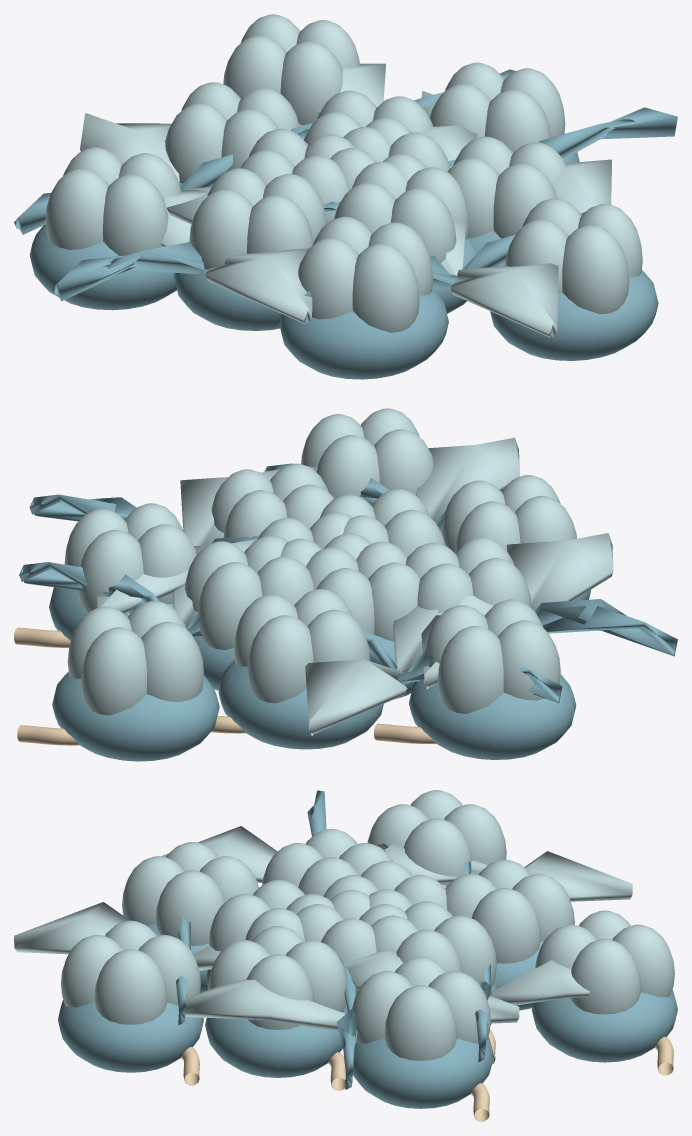
File: bio_oxygen_reef_15_near.glb
The picture shows the model from 3 angles, top to bottom: view 1: azimuth 30°, elevation 25°; view 2: azimuth 150°, elevation 25°; view 3: azimuth 270°, elevation 25°; orthographic projection. The views are drawn at different scales.
Visible parts, largest first — view 1: Lobed gas sac.028, Lobed gas sac.036, Lobed gas sac.040, Lobed gas sac.016, Lobed gas sac.044, Photosynthetic cushion.007, Lobed gas sac.032, Lobed gas sac.020, Lobed gas sac.024, Lobed gas sac.008, Photosynthetic cushion.010, Low buttress leaf.009 (+14 smaller); view 2: Lobed gas sac.044, Lobed gas sac.036, Lobed gas sac.024, Photosynthetic cushion.011, Lobed gas sac.032, Lobed gas sac.040, Lobed gas sac.012, Photosynthetic cushion.009, Lobed gas sac.028, Low buttress leaf.005, Lobed gas sac.004, Lobed gas sac.016 (+18 smaller); view 3: Lobed gas sac.040, Lobed gas sac.032, Lobed gas sac.044, Lobed gas sac.028, Lobed gas sac.024, Lobed gas sac.036, Lobed gas sac.020, Photosynthetic cushion.011, Photosynthetic cushion.008, Photosynthetic cushion.010, Lobed gas sac.012, Photosynthetic cushion.005 (+18 smaller).
Part boxes in pixels (x1=…): Lobed gas sac.028: x1=298, y1=216, x2=433, y2=332; Lobed gas sac.036: x1=45, y1=147, x2=181, y2=255; Lobed gas sac.040: x1=505, y1=198, x2=642, y2=314; Lobed gas sac.016: x1=189, y1=168, x2=326, y2=269; Lobed gas sac.044: x1=223, y1=14, x2=359, y2=125; Photosynthetic cushion.007: x1=279, y1=288, x2=448, y2=379; Lobed gas sac.032: x1=430, y1=62, x2=565, y2=153; Lobed gas sac.020: x1=447, y1=136, x2=567, y2=238; Lobed gas sac.024: x1=165, y1=82, x2=299, y2=183; Lobed gas sac.008: x1=334, y1=161, x2=467, y2=262; Photosynthetic cushion.010: x1=490, y1=270, x2=658, y2=360; Low buttress leaf.009: x1=441, y1=220, x2=558, y2=337; Lobed gas sac.044: x1=67, y1=601, x2=203, y2=715; Lobed gas sac.036: x1=425, y1=599, x2=560, y2=713; Lobed gas sac.024: x1=234, y1=589, x2=370, y2=703; Photosynthetic cushion.011: x1=52, y1=671, x2=219, y2=761; Lobed gas sac.032: x1=64, y1=503, x2=196, y2=612; Lobed gas sac.040: x1=301, y1=408, x2=433, y2=498; Lobed gas sac.012: x1=185, y1=535, x2=314, y2=649; Photosynthetic cushion.009: x1=409, y1=674, x2=576, y2=759; Lobed gas sac.028: x1=441, y1=475, x2=576, y2=553; Low buttress leaf.005: x1=305, y1=595, x2=493, y2=735; Lobed gas sac.004: x1=306, y1=541, x2=420, y2=641; Lobed gas sac.016: x1=406, y1=537, x2=531, y2=613; Lobed gas sac.040: x1=61, y1=920, x2=200, y2=1024; Lobed gas sac.032: x1=352, y1=957, x2=490, y2=1060; Lobed gas sac.044: x1=535, y1=910, x2=674, y2=1014; Lobed gas sac.028: x1=122, y1=842, x2=259, y2=945; Lobed gas sac.024: x1=445, y1=859, x2=574, y2=963; Lobed gas sac.036: x1=367, y1=790, x2=506, y2=886; Lobed gas sac.020: x1=208, y1=926, x2=345, y2=1029; Photosynthetic cushion.011: x1=531, y1=990, x2=677, y2=1062; Photosynthetic cushion.008: x1=353, y1=1036, x2=493, y2=1108; Photosynthetic cushion.010: x1=58, y1=1000, x2=203, y2=1072; Lobed gas sac.012: x1=371, y1=901, x2=496, y2=987; Photosynthetic cushion.005: x1=205, y1=1007, x2=347, y2=1077.
Bounding box in the file's own units: 2.22 × 0.45 × 2.18.
